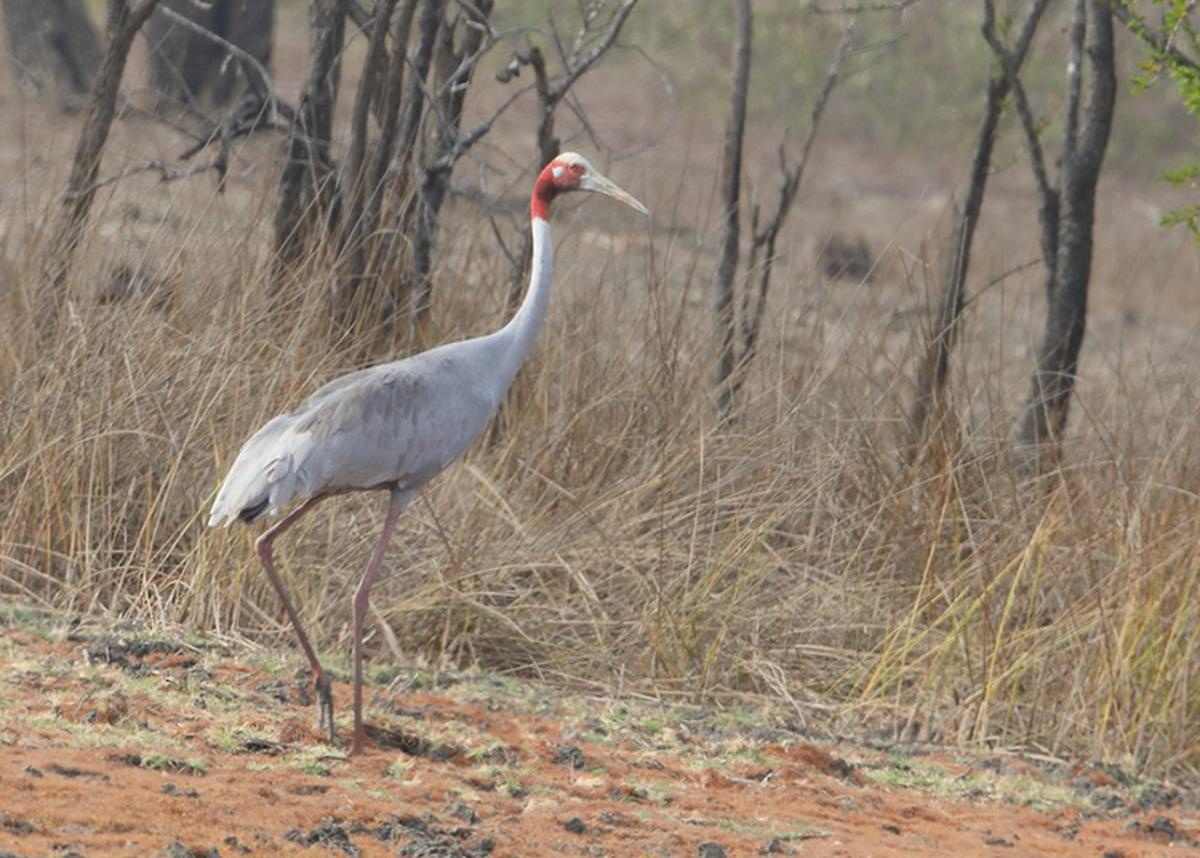crane: (207, 139, 666, 777)
